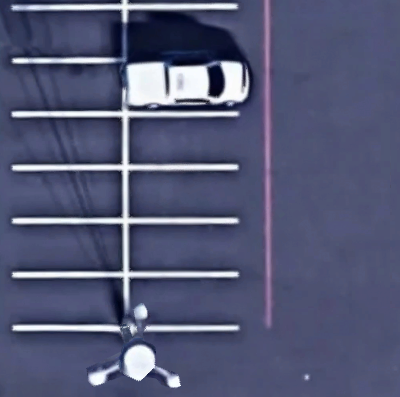Occupied: (125, 60, 238, 115)
Vacant: (13, 221, 126, 276), (12, 60, 126, 114), (11, 115, 125, 169), (125, 114, 238, 168), (125, 167, 238, 221), (126, 275, 239, 329), (12, 7, 125, 60), (126, 7, 237, 60), (13, 276, 126, 328), (126, 222, 238, 274), (11, 170, 124, 219)
